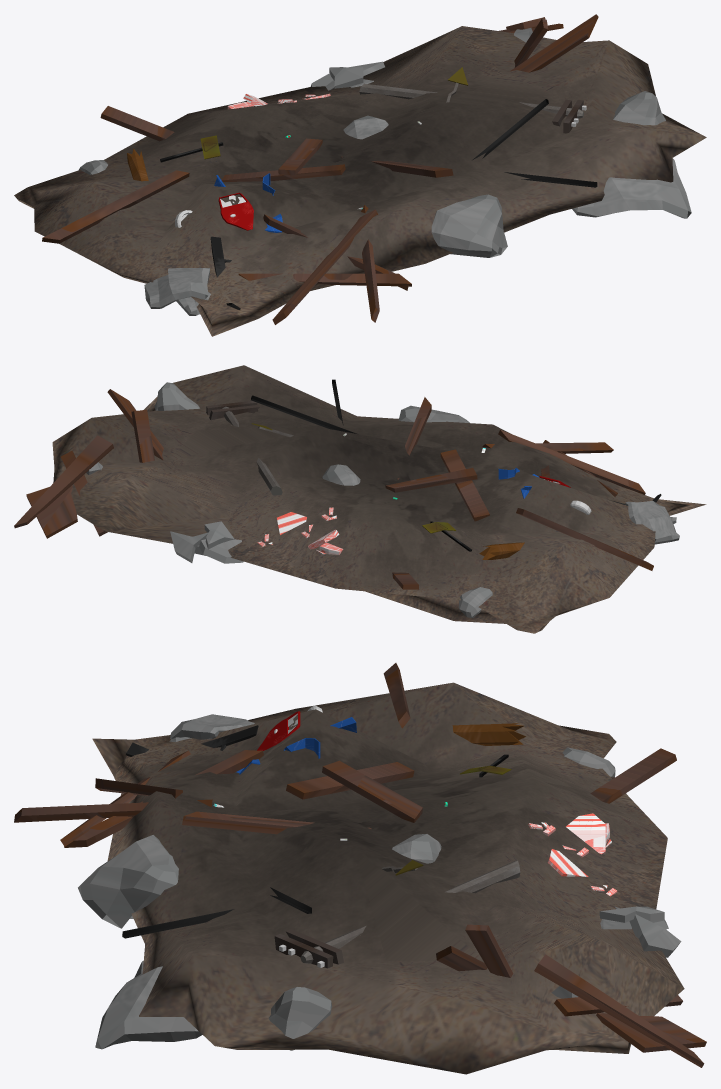
Rendered from DestroçosChão4.fbx.
The picture shows the model from 3 angles, top to bottom: view 1: azimuth 30°, elevation 25°; view 2: azimuth 150°, elevation 25°; view 3: azimuth 270°, elevation 25°; orthographic projection. The views are drawn at different scales.
Visible parts, largest first — view 1: DestroçoChão4, Cube.011, Rock3.006, Concret2.006, Concret2.005, pCube4.013, Cube.012, PosteQuebrado.002, Rock3.005, Cubo.013, pCube4.015, Cabos.003 (+7 smaller); view 2: DestroçoChão4, pCube10.002, Cube.011, Cubo.013, pCube4.013, Concret2.005, PosteQuebrado.002, pCube4.015, Cube.012, pCube4.014, Rock3.005, Cabos.003 (+7 smaller); view 3: DestroçoChão4, pCube10.002, Rock3.006, Cube.011, Concret2.006, PosteQuebrado.002, Cubo.013, Rock3.005, pCube4.014, pCube4.013, Cube.010, pCube4.015 (+10 smaller).
Part boxes in pixels (x1,y1,x2,y2): DestroçoChão4: (14, 26, 706, 336); Cube.011: (238, 205, 411, 324); Rock3.006: (431, 194, 507, 257); Concret2.006: (572, 158, 691, 218); Concret2.005: (144, 268, 210, 315); pCube4.013: (510, 14, 598, 72); Cube.012: (42, 170, 189, 243); PosteQuebrado.002: (359, 83, 586, 133); Rock3.005: (613, 91, 665, 125); Cubo.013: (310, 61, 384, 90); pCube4.015: (221, 164, 345, 181); Cabos.003: (472, 99, 597, 187); DestroçoChão4: (52, 365, 706, 633); pCube10.002: (14, 435, 113, 538); Cube.011: (482, 429, 645, 496); Cubo.013: (170, 521, 243, 563); pCube4.013: (107, 389, 163, 462); Concret2.005: (625, 501, 679, 544); PosteQuebrado.002: (206, 401, 282, 495); pCube4.015: (440, 449, 489, 521); Cube.012: (516, 508, 653, 570); pCube4.014: (385, 467, 477, 492); Rock3.005: (154, 382, 199, 410); Cabos.003: (251, 379, 356, 433); DestroçoChão4: (92, 682, 684, 1074); pCube10.002: (534, 954, 706, 1067); Rock3.006: (78, 835, 178, 928); Cube.011: (14, 750, 263, 847); Concret2.006: (95, 961, 202, 1049); PosteQuebrado.002: (274, 860, 520, 968); Cubo.013: (599, 906, 681, 957); Rock3.005: (268, 987, 332, 1050); pCube4.014: (322, 760, 422, 822); pCube4.013: (436, 924, 513, 977); Cube.010: (182, 811, 371, 834); pCube4.015: (286, 762, 414, 799).
Size of the model in its own units: 2660 by 425 by 1890.
